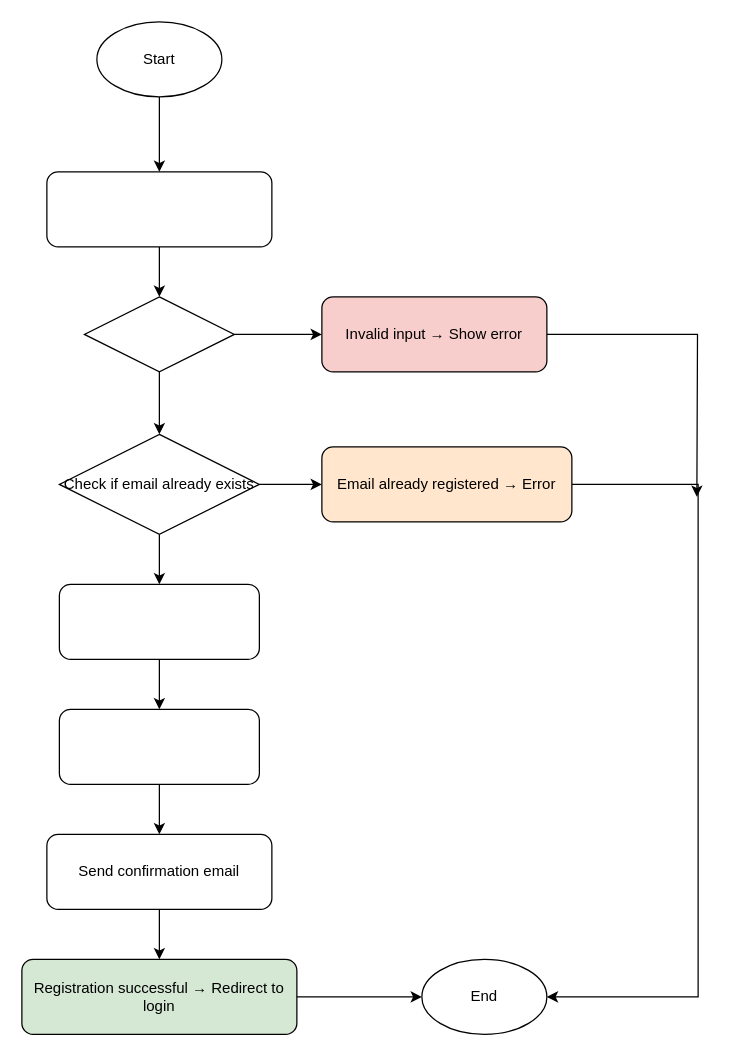
Image size: 730x1056. Some labels were removed from this diagram. Here are the shapes that lost their labels. From the top down, the centre of each, then its label:
At (159,209): "User submits registration form".
At (158,334): "Validate input".
At (158,621): "Hash password".
At (158,746): "Save user data in DB".
